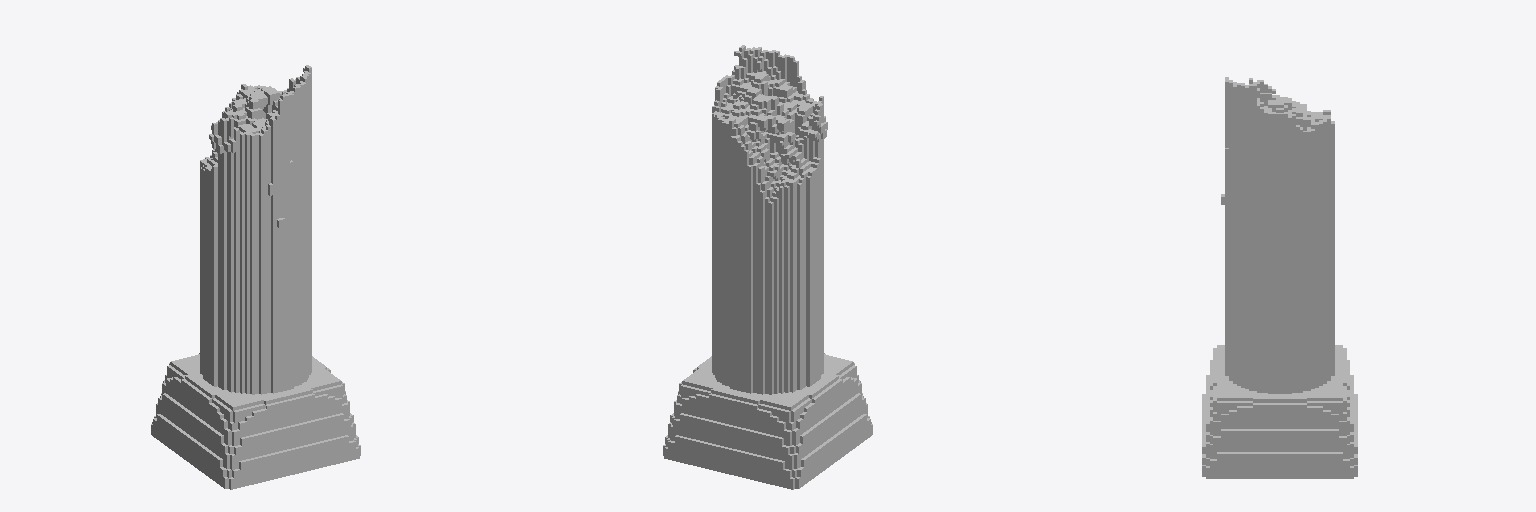
Rendered from broken pillar.obj.
The picture shows the model from 3 angles: view 1: azimuth 30°, elevation 25°; view 2: azimuth 150°, elevation 25°; view 3: azimuth 270°, elevation 25°; orthographic projection.
Visible parts, largest first — view 1: object 1; view 2: object 1; view 3: object 1.
Part boxes in pixels (bbox=[...]): object 1: bbox=[151, 65, 360, 489]; object 1: bbox=[663, 45, 872, 489]; object 1: bbox=[1202, 77, 1357, 478].
Size of the model in its own units: 4 by 10.7 by 4.